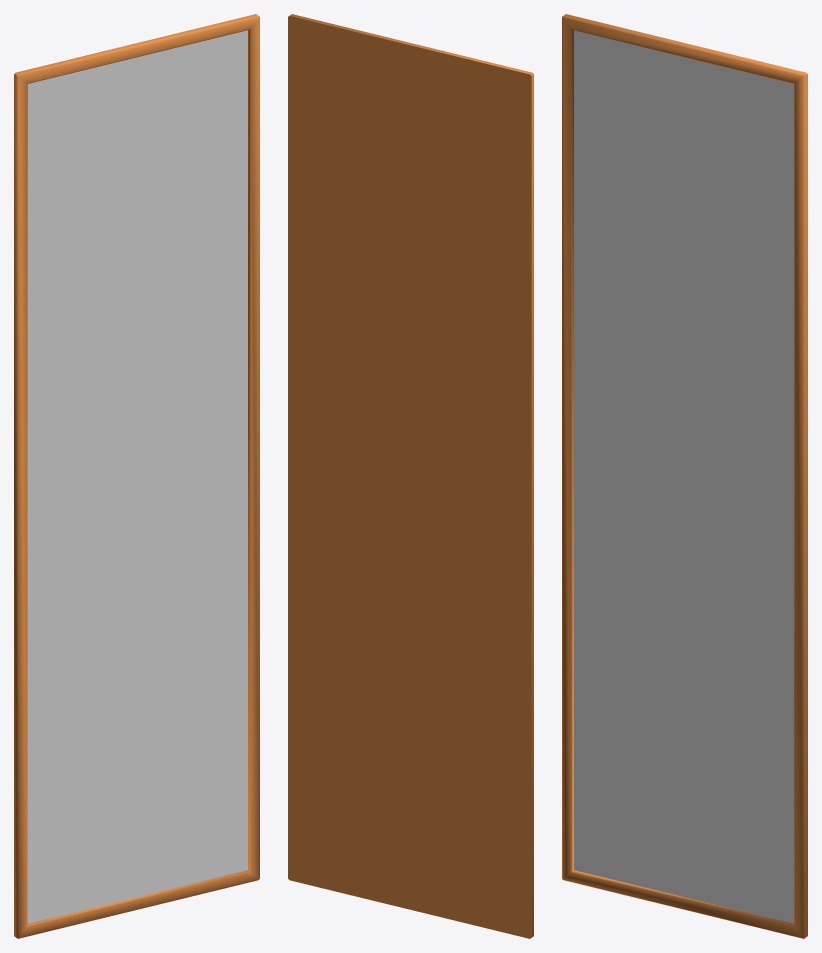
Rendered from wall-mirror.glb.
3 renders of one model, left to right at view 1: azimuth 30°, elevation 25°; view 2: azimuth 150°, elevation 25°; view 3: azimuth 330°, elevation 25°, orthographic.
Parts seen in each view (by area): view 1: __X_MIRROR__Cube.002, __X_FRAME__Cube.001; view 2: __X_FRAME__Cube.001; view 3: __X_MIRROR__Cube.002, __X_FRAME__Cube.001.
Boxes of the visible parts, x1,y1,x2,y2 form: __X_MIRROR__Cube.002: [27, 30, 247, 923]; __X_FRAME__Cube.001: [14, 14, 259, 938]; __X_FRAME__Cube.001: [288, 14, 533, 938]; __X_MIRROR__Cube.002: [574, 30, 794, 923]; __X_FRAME__Cube.001: [562, 14, 807, 938].
Bounding box in the file's own units: 0.4304 × 1.46 × 0.01.
